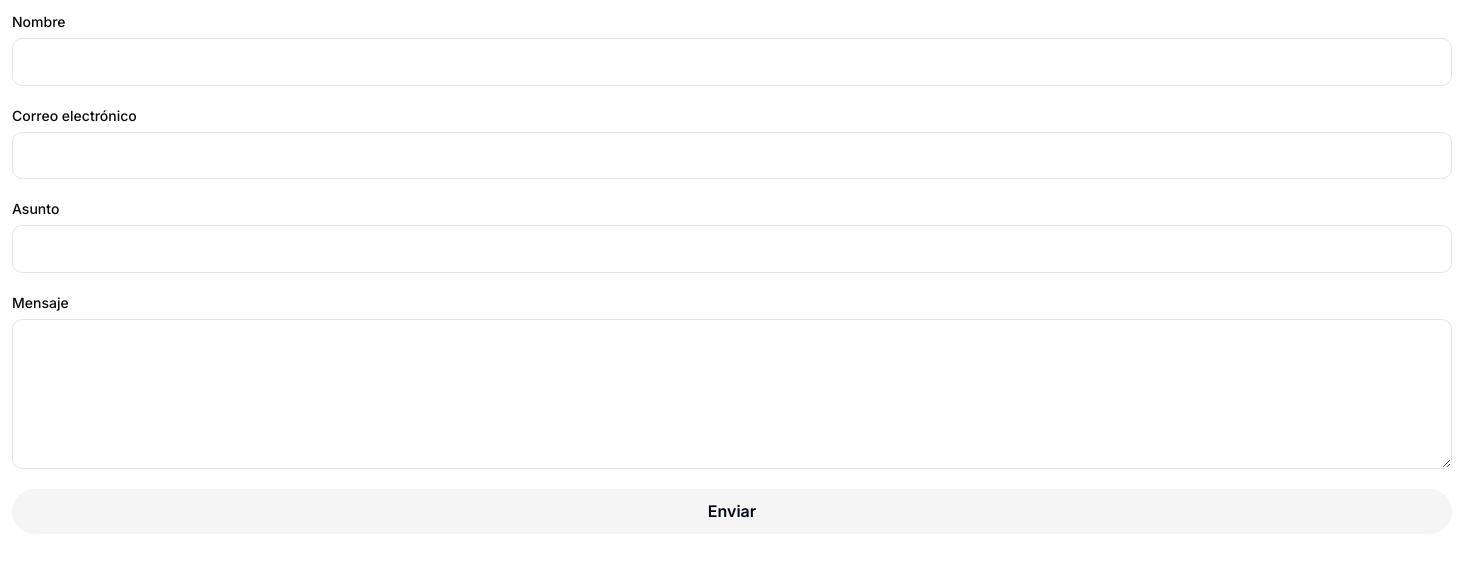
Test: ContactForm › aplica fieldErrors del servidor (400) sin perder otros valores
In the field labelled "Nombre": (732,62) [12,38,1452,86], type "Ian Vazquez"
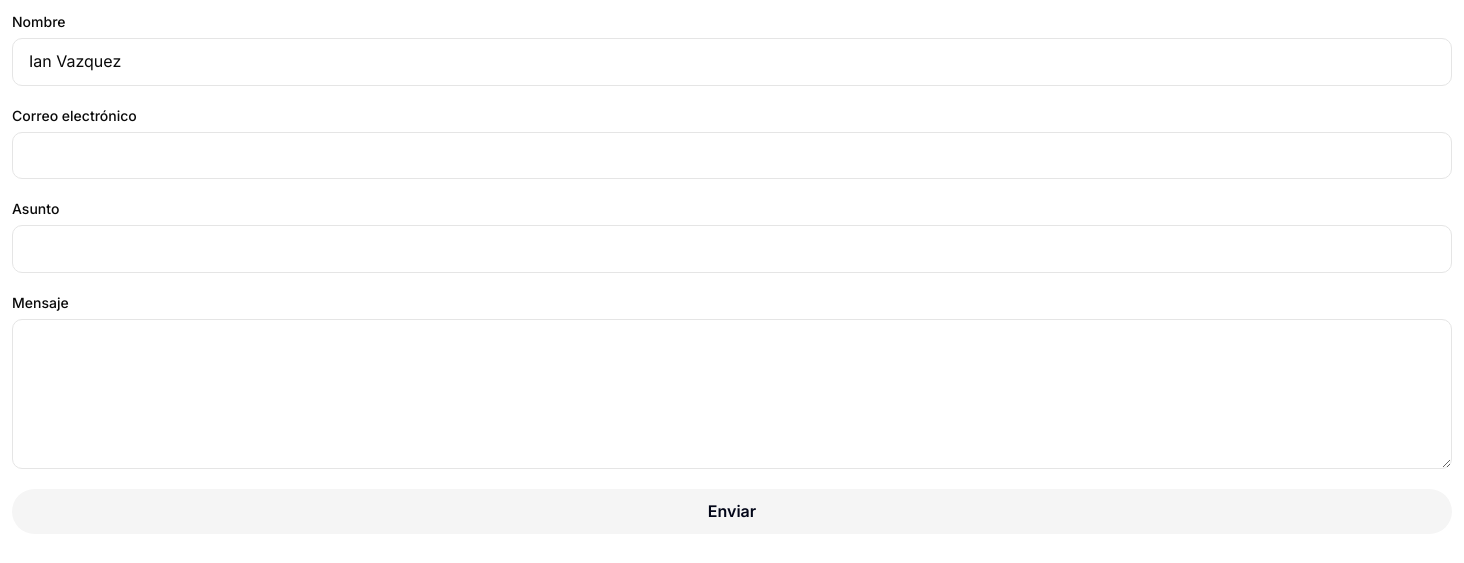
In the field labelled "Correo electrónico": (732,155) [12,132,1452,179], type "ian@example.com"
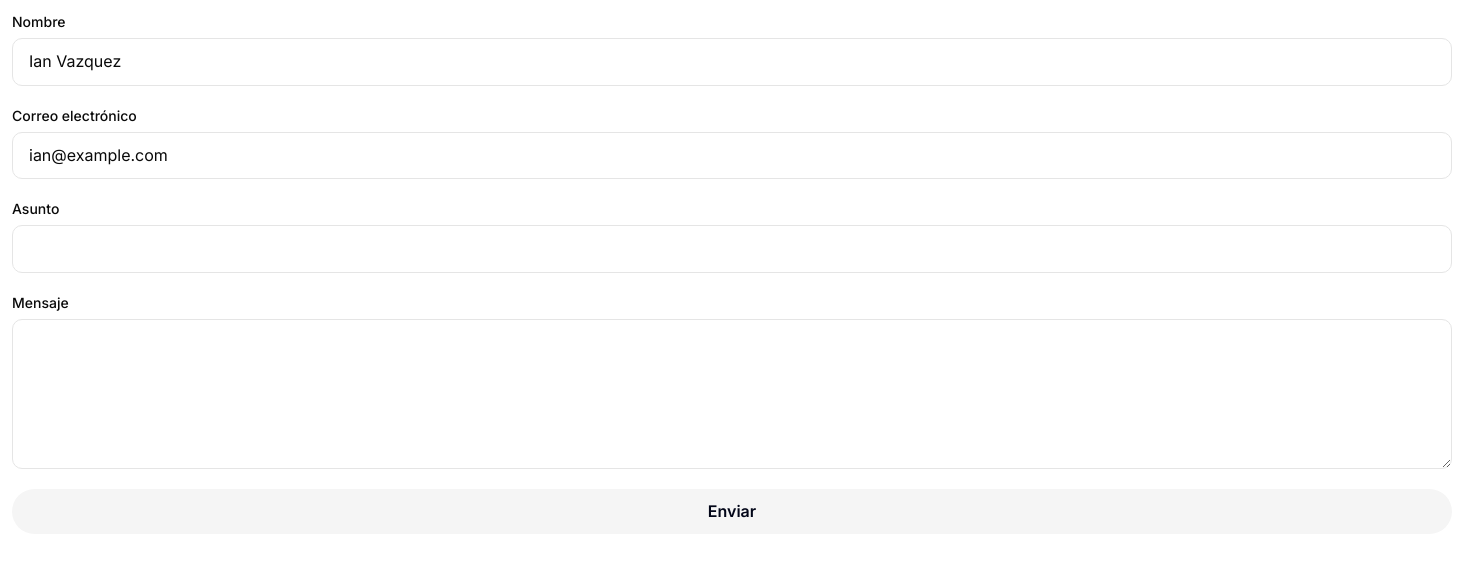
In the field labelled "Asunto": (732,249) [12,225,1452,273], type "Consulta"
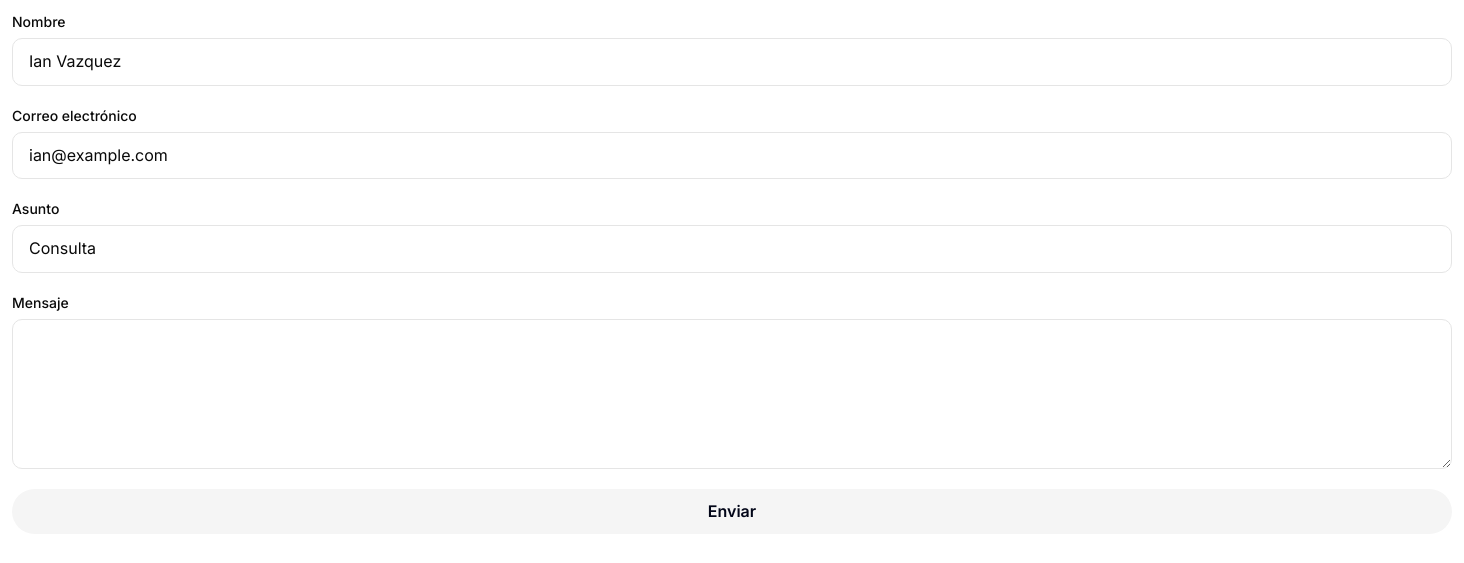
In the text box labelled "Mensaje": (732,394) [12,319,1452,469], type "Mensaje de prueba con suficientes caracteres."
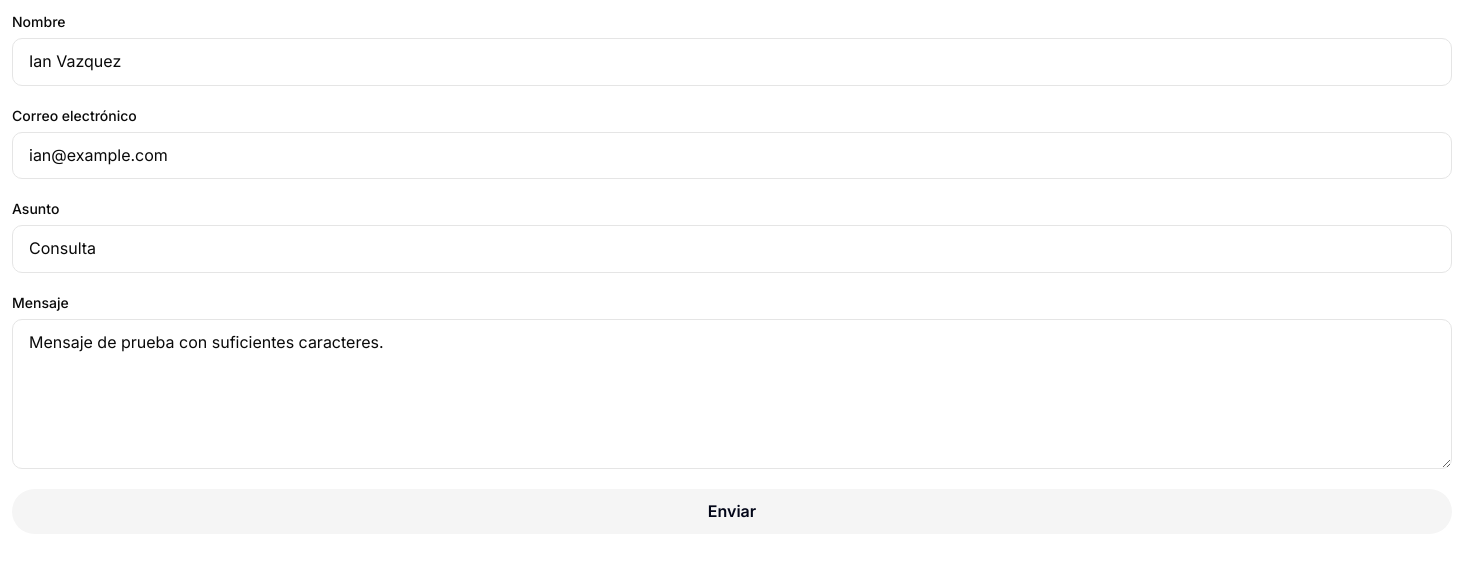
Submit the form
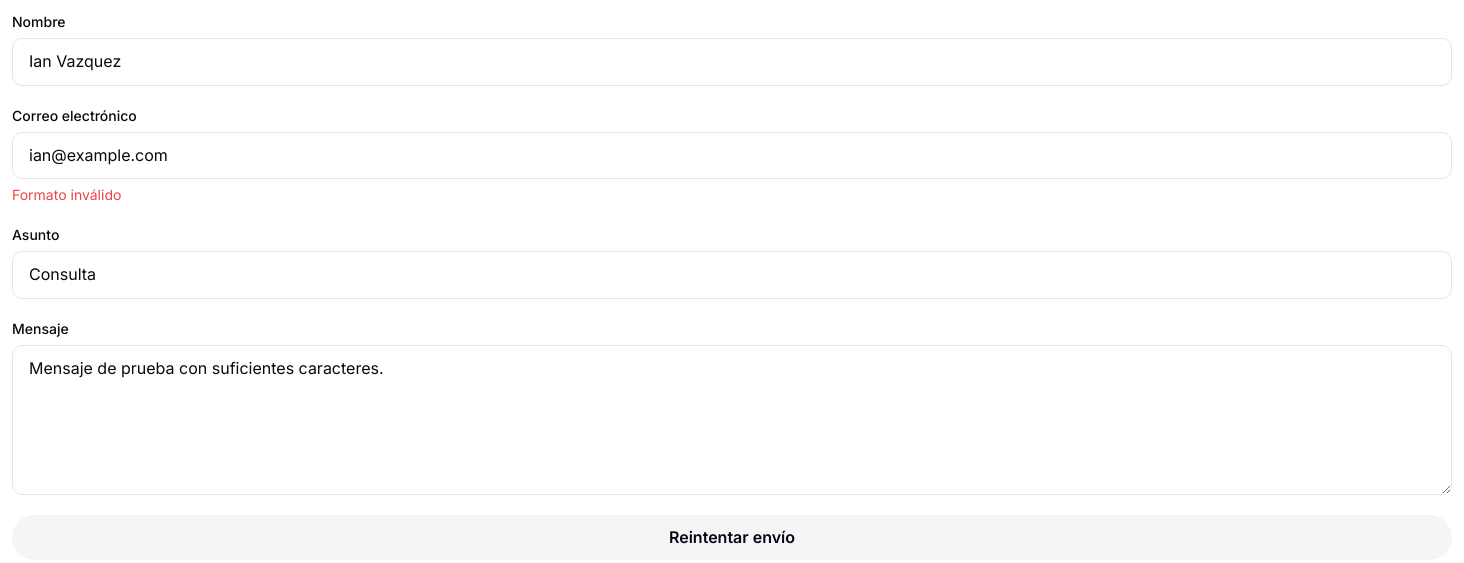
Expected: the text "Formato inválido" is shown, [12,186,121,203]
